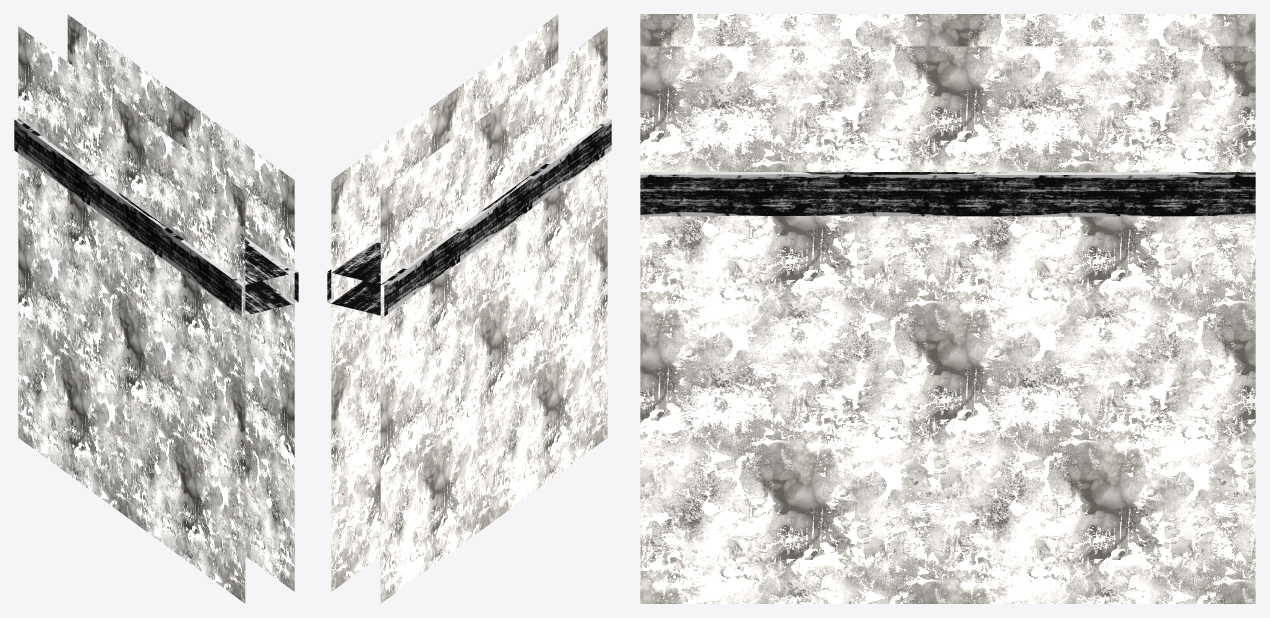
Rendered from SM_wall_A_4x4_01_02.fbx.
The picture shows the model from 3 angles, left to right: view 1: azimuth 30°, elevation 25°; view 2: azimuth 150°, elevation 25°; view 3: azimuth 270°, elevation 25°; orthographic projection. The views are drawn at different scales.
Parts seen in each view (by area): view 1: SM_wall_A_4x4_01_02_LOD0; view 2: SM_wall_A_4x4_01_02_LOD0; view 3: SM_wall_A_4x4_01_02_LOD0.
Boxes of the visible parts, x1=… form: SM_wall_A_4x4_01_02_LOD0: x1=14, y1=14, x2=298, y2=603; SM_wall_A_4x4_01_02_LOD0: x1=327, y1=14, x2=611, y2=603; SM_wall_A_4x4_01_02_LOD0: x1=640, y1=14, x2=1255, y2=603.
Bounding box in the file's own units: 58 × 400 × 400.
3 materials, 3 textured.
